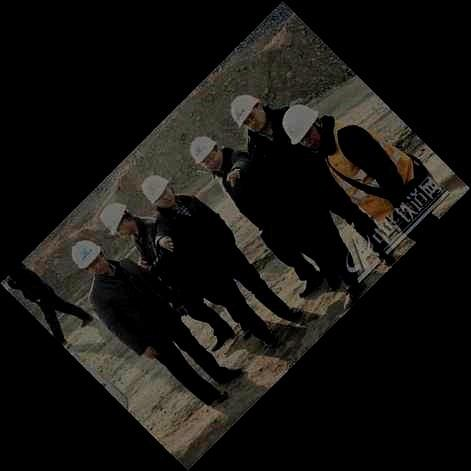helmet: (282, 104, 323, 149), (97, 202, 136, 240), (230, 94, 265, 132), (71, 239, 106, 275), (189, 136, 222, 172), (141, 174, 175, 208)
